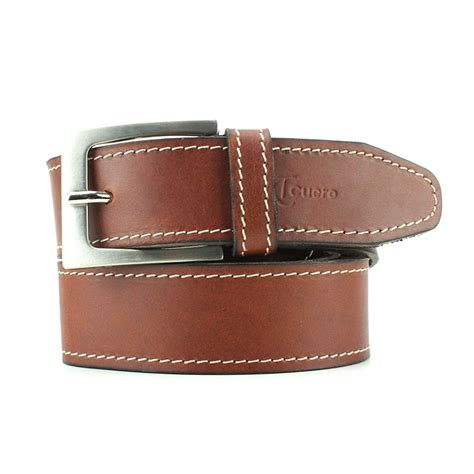cuero: (46, 128, 444, 377)
